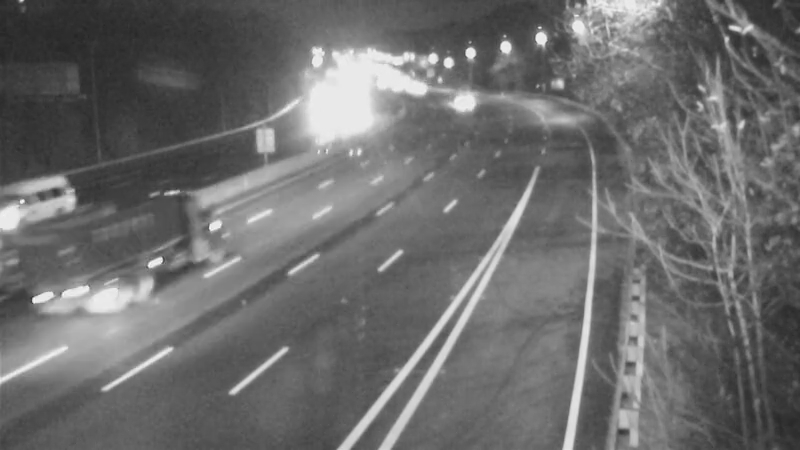vehicle: (21, 241, 101, 321), (1, 165, 72, 245)
